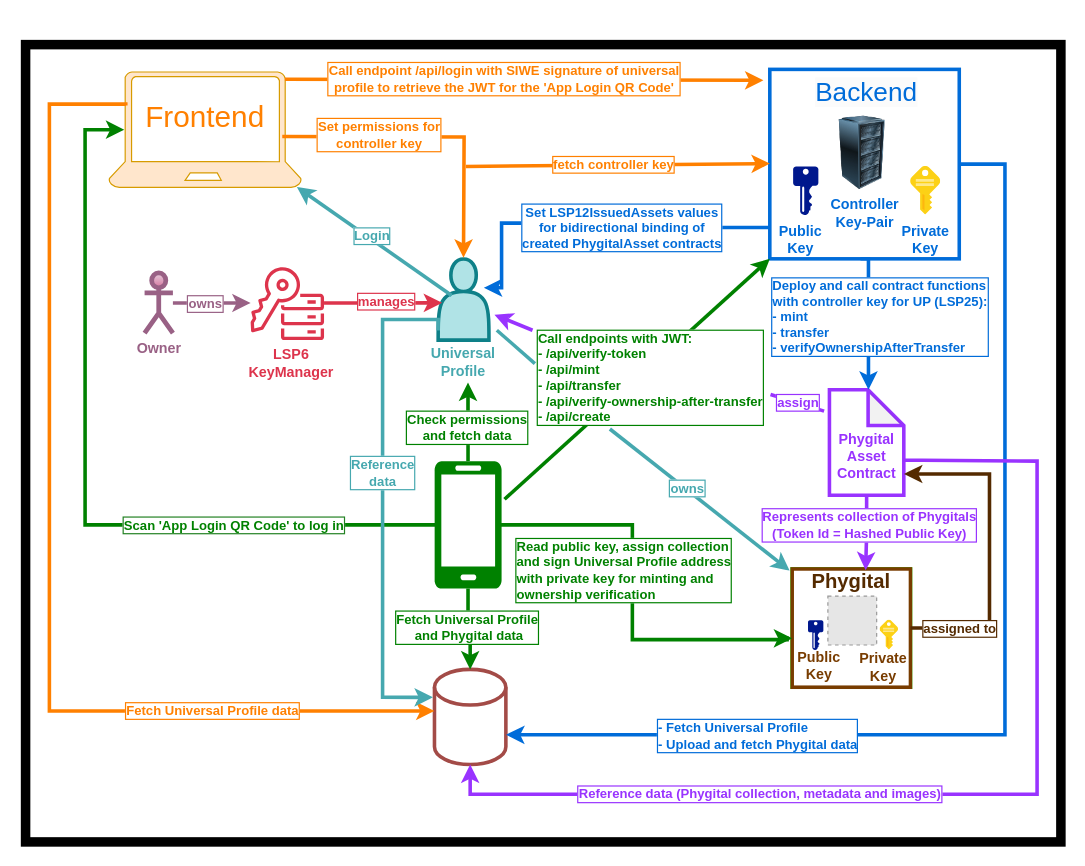
Some shapes in this 1085 by 866 pixel diagram are drawn without their labels. Grey dashed boxes stand in for pictures. Each missing label, with the centre of its shape:
"App" goes at point (467, 524).
"IPFS" goes at point (469, 716).
